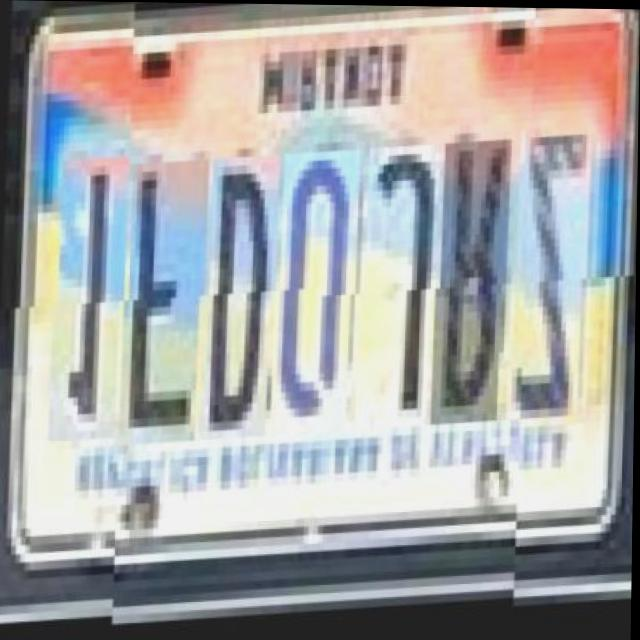0: (275, 153, 359, 441)
1: (53, 165, 128, 453)
d: (204, 158, 278, 444)
f: (124, 161, 208, 448)
j: (360, 149, 439, 437)
r: (436, 145, 510, 432)
z: (511, 133, 590, 429)
